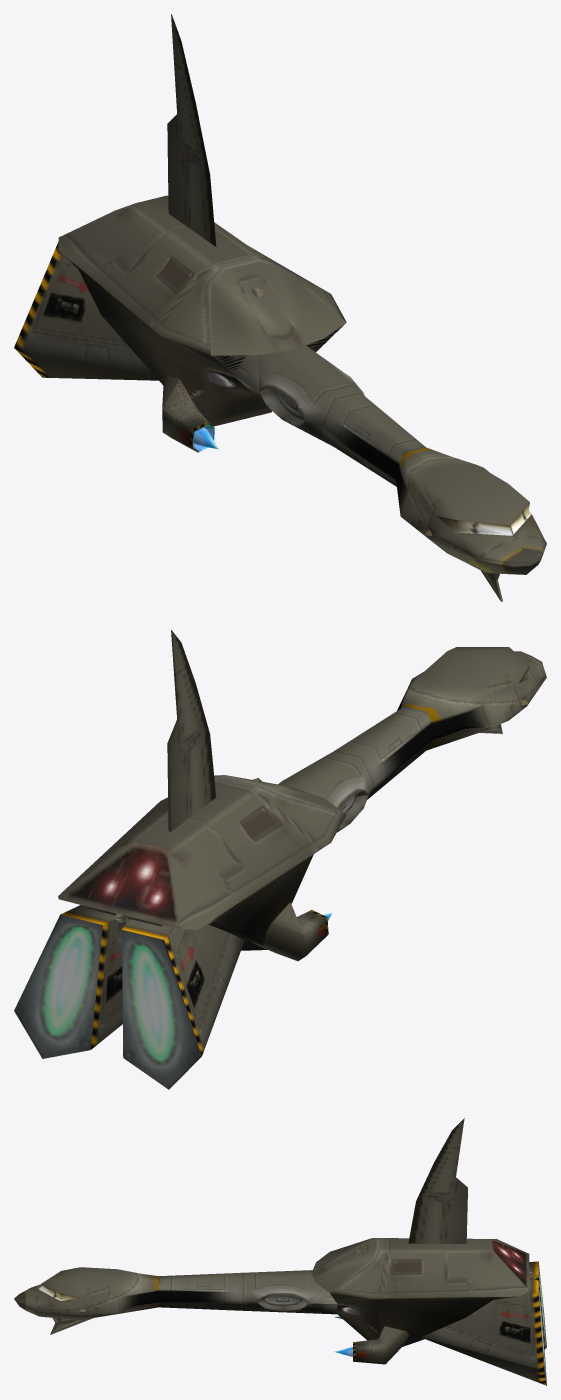
File: cap20_static.obj
3 renders of one model, top to bottom at view 1: azimuth 30°, elevation 25°; view 2: azimuth 150°, elevation 25°; view 3: azimuth 270°, elevation 25°, orthographic. The views are drawn at different scales.
Parts seen in each view (by area): view 1: frm-body_1_1, frm-cube12, frm-cube5, frm-cube6; view 2: frm-body_1_1, frm-cube12, frm-cube3, frm-cube5, frm-cube6; view 3: frm-body_1_1, frm-cube3, frm-cube5, frm-cube13, frm-cube12.
Boxes of the visible parts, left/top/right/bottom form: frm-body_1_1: left=58, top=195, right=546, bottom=574; frm-cube12: left=14, top=242, right=158, bottom=380; frm-cube5: left=167, top=14, right=216, bottom=246; frm-cube6: left=162, top=375, right=218, bottom=452; frm-body_1_1: left=58, top=647, right=546, bottom=950; frm-cube12: left=122, top=919, right=244, bottom=1089; frm-cube3: left=14, top=905, right=122, bottom=1058; frm-cube5: left=167, top=630, right=216, bottom=831; frm-cube6: left=251, top=902, right=332, bottom=961; frm-body_1_1: left=14, top=1238, right=529, bottom=1346; frm-cube3: left=421, top=1279, right=546, bottom=1385; frm-cube5: left=408, top=1118, right=467, bottom=1243; frm-cube13: left=334, top=1326, right=408, bottom=1364; frm-cube12: left=529, top=1261, right=546, bottom=1349.
Size of the model in its own units: 2.18 by 4.39 by 8.54.
